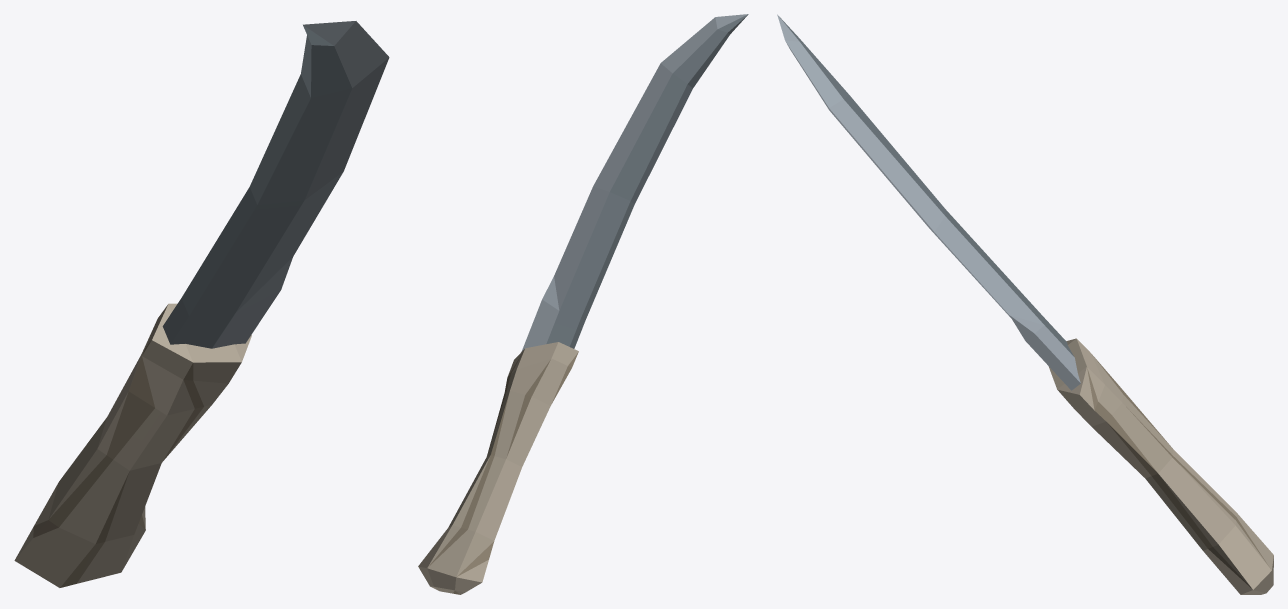
File: fk-knife-04.glb
The picture shows the model from 3 angles, left to right: view 1: azimuth 30°, elevation 25°; view 2: azimuth 150°, elevation 25°; view 3: azimuth 270°, elevation 25°; orthographic projection. The views are drawn at different scales.
Visible parts, largest first — view 1: fk-knife-04; view 2: fk-knife-04; view 3: fk-knife-04.
Boxes of the visible parts, x1,y1,x2,y2 form: fk-knife-04: (14, 21, 389, 587); fk-knife-04: (418, 14, 748, 594); fk-knife-04: (777, 14, 1273, 594).
Size of the model in its own units: 0.1513 by 0.515 by 0.4432.
1 material, 1 textured.
